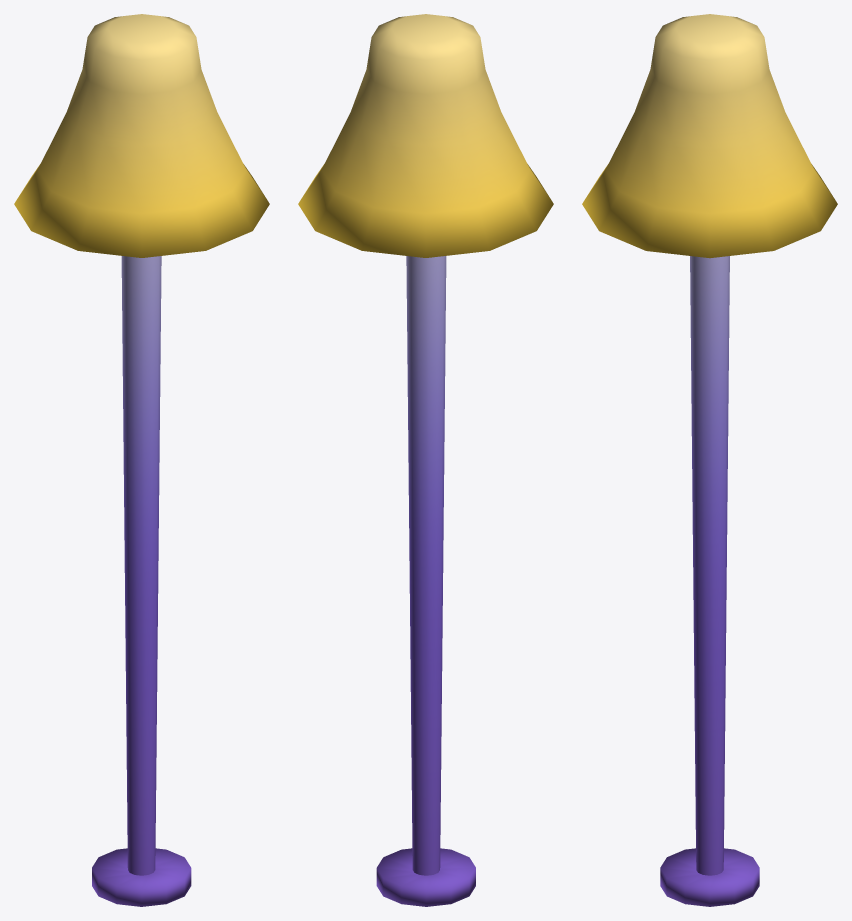
The model's file is Lamp_Big.fbx.
The picture shows the model from 3 angles, left to right: view 1: azimuth 30°, elevation 25°; view 2: azimuth 150°, elevation 25°; view 3: azimuth 270°, elevation 25°; orthographic projection.
Visible parts, largest first — view 1: Lamp_Big; view 2: Lamp_Big; view 3: Lamp_Big.
Part boxes in pixels (bbox=[...]): Lamp_Big: bbox=[14, 14, 269, 906]; Lamp_Big: bbox=[298, 14, 553, 906]; Lamp_Big: bbox=[582, 14, 837, 906].
Size of the model in its own units: 0.5615 by 2.08 by 0.5615.
